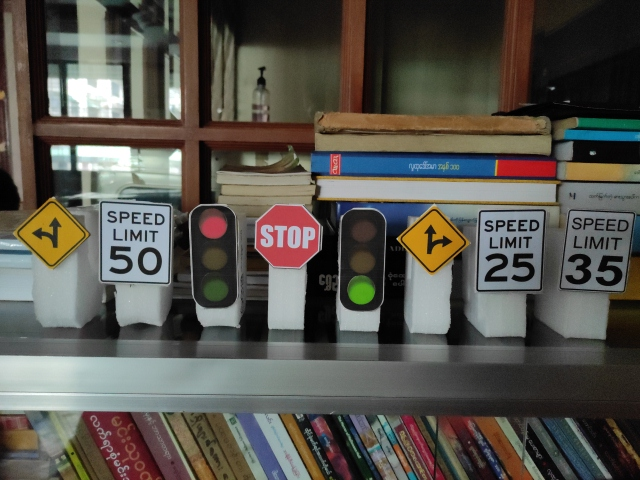Green Traffic Light: (338, 208, 386, 311)
Red Traffic Light: (189, 204, 238, 309)
Speed Limit 25: (476, 208, 546, 292)
Speed Limit 35: (560, 210, 636, 294)
Speed Limit 50: (98, 199, 173, 285)
Stop Sign: (254, 204, 324, 269)
Straight Or Left Sign: (13, 197, 90, 268)
Straight Or Right Sign: (398, 206, 469, 274)
